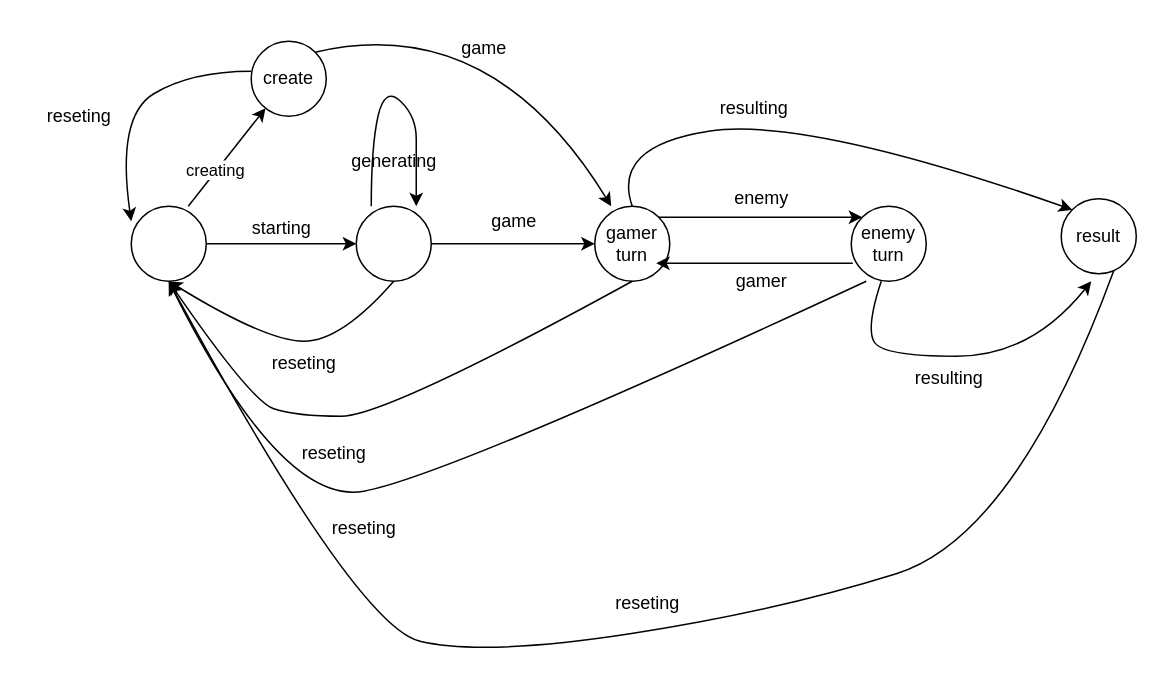
This 1163x674 diagram has some shape labels left out. The centre of each missing label's shape, as x and y in pixels:
"generate" belongs at (x=393, y=243).
"start" belongs at (x=168, y=243).
